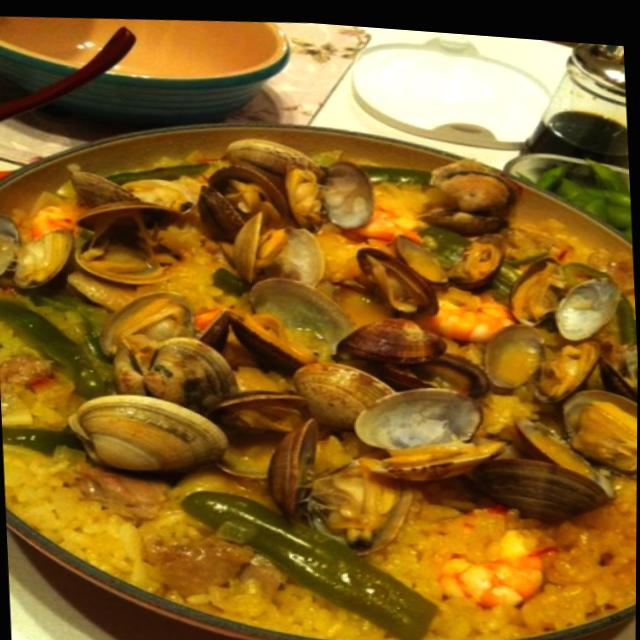鸡蛋料理: (0, 168, 639, 618)
